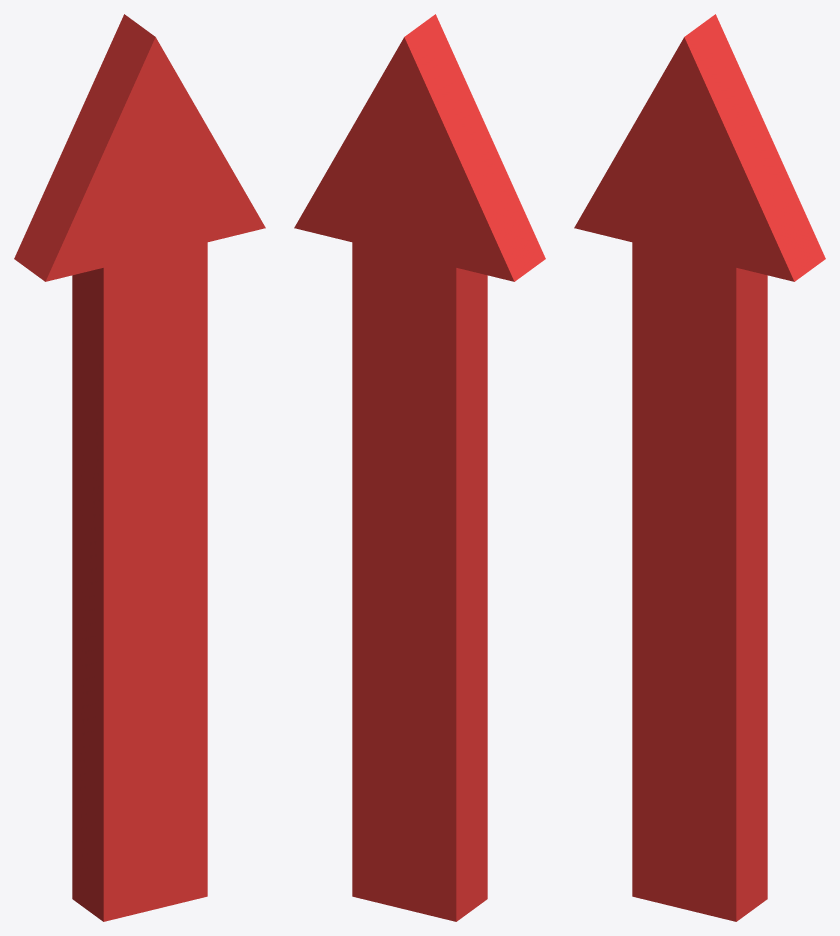
The model's file is arrow.fbx.
The picture shows the model from 3 angles, left to right: view 1: azimuth 30°, elevation 25°; view 2: azimuth 150°, elevation 25°; view 3: azimuth 330°, elevation 25°; orthographic projection.
Parts seen in each view (by area): view 1: Cube; view 2: Cube; view 3: Cube.
Part boxes in pixels (bbox=[...]): Cube: bbox=[14, 14, 265, 921]; Cube: bbox=[294, 14, 545, 921]; Cube: bbox=[574, 14, 825, 921].
Size of the model in its own units: 33.95 by 128 by 8.37.
